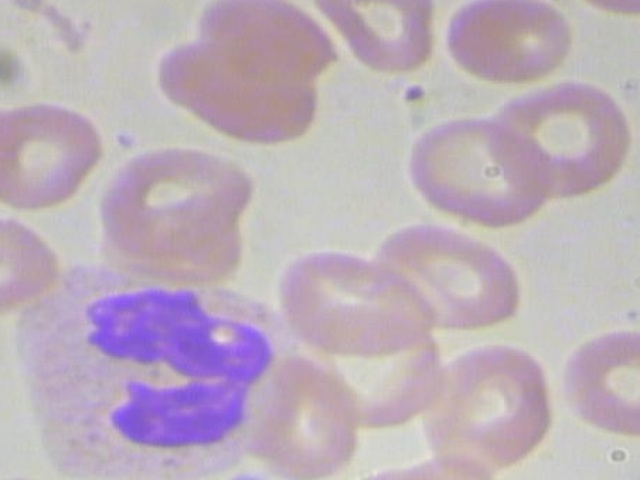RBC: (147, 0, 340, 154), (473, 74, 632, 203), (276, 243, 451, 359), (423, 337, 564, 480), (374, 217, 539, 333), (402, 109, 558, 228), (106, 140, 255, 249), (251, 355, 353, 480), (0, 99, 110, 208), (439, 0, 574, 83), (309, 0, 444, 83), (556, 321, 640, 441), (0, 211, 67, 320)
WBC: (0, 257, 309, 480)
